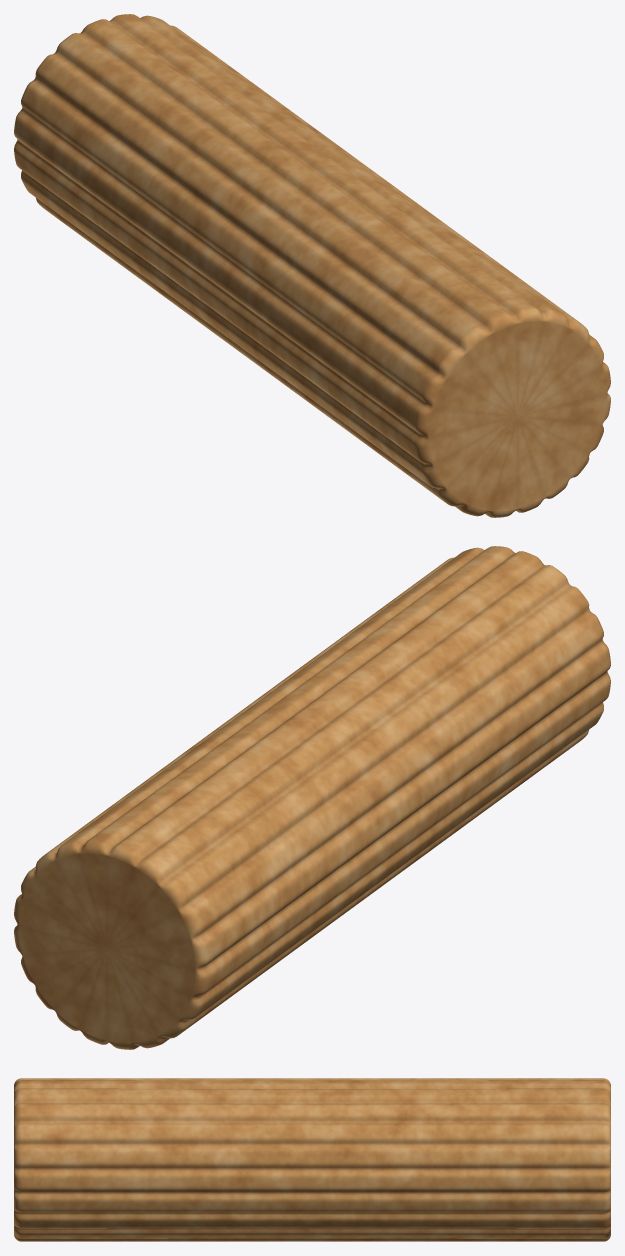
File: dulce_leche_estriado.gltf
The picture shows the model from 3 angles, top to bottom: view 1: azimuth 30°, elevation 25°; view 2: azimuth 150°, elevation 25°; view 3: azimuth 270°, elevation 25°; orthographic projection. The views are drawn at different scales.
Visible parts, largest first — view 1: dulce_estriado; view 2: dulce_estriado; view 3: dulce_estriado.
Boxes of the visible parts, x1,y1,x2,y2 form: dulce_estriado: (14, 14, 610, 517); dulce_estriado: (14, 546, 610, 1049); dulce_estriado: (14, 1078, 610, 1241).
Size of the model in its own units: 0.0259 by 0.0259 by 0.095.
1 material, 1 textured.
